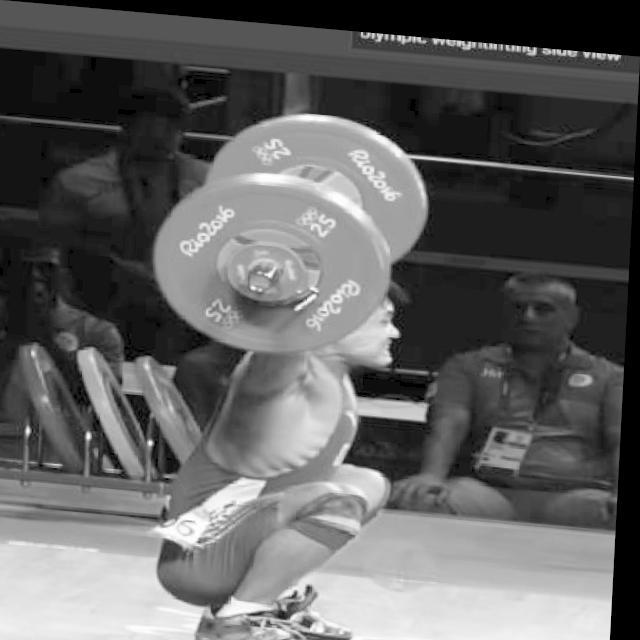barbell: (145, 163, 398, 361)
